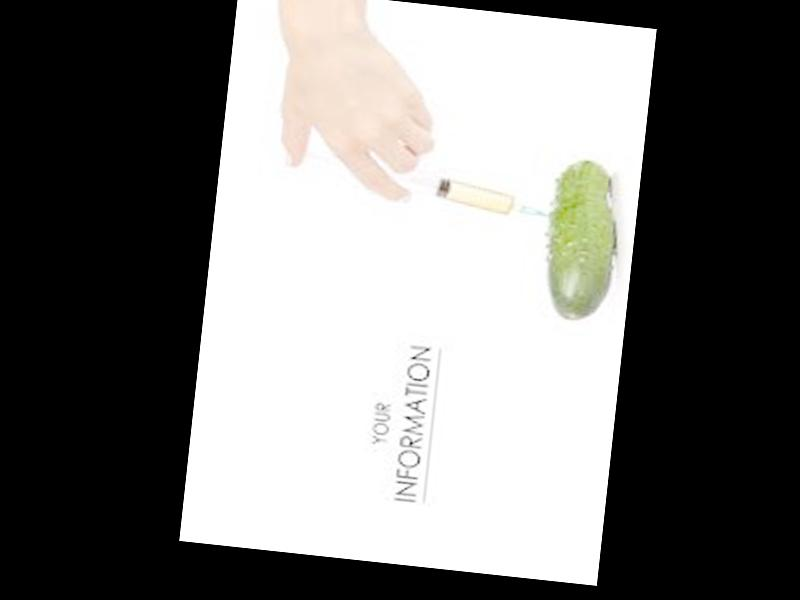Cucumber: (538, 155, 620, 323)
